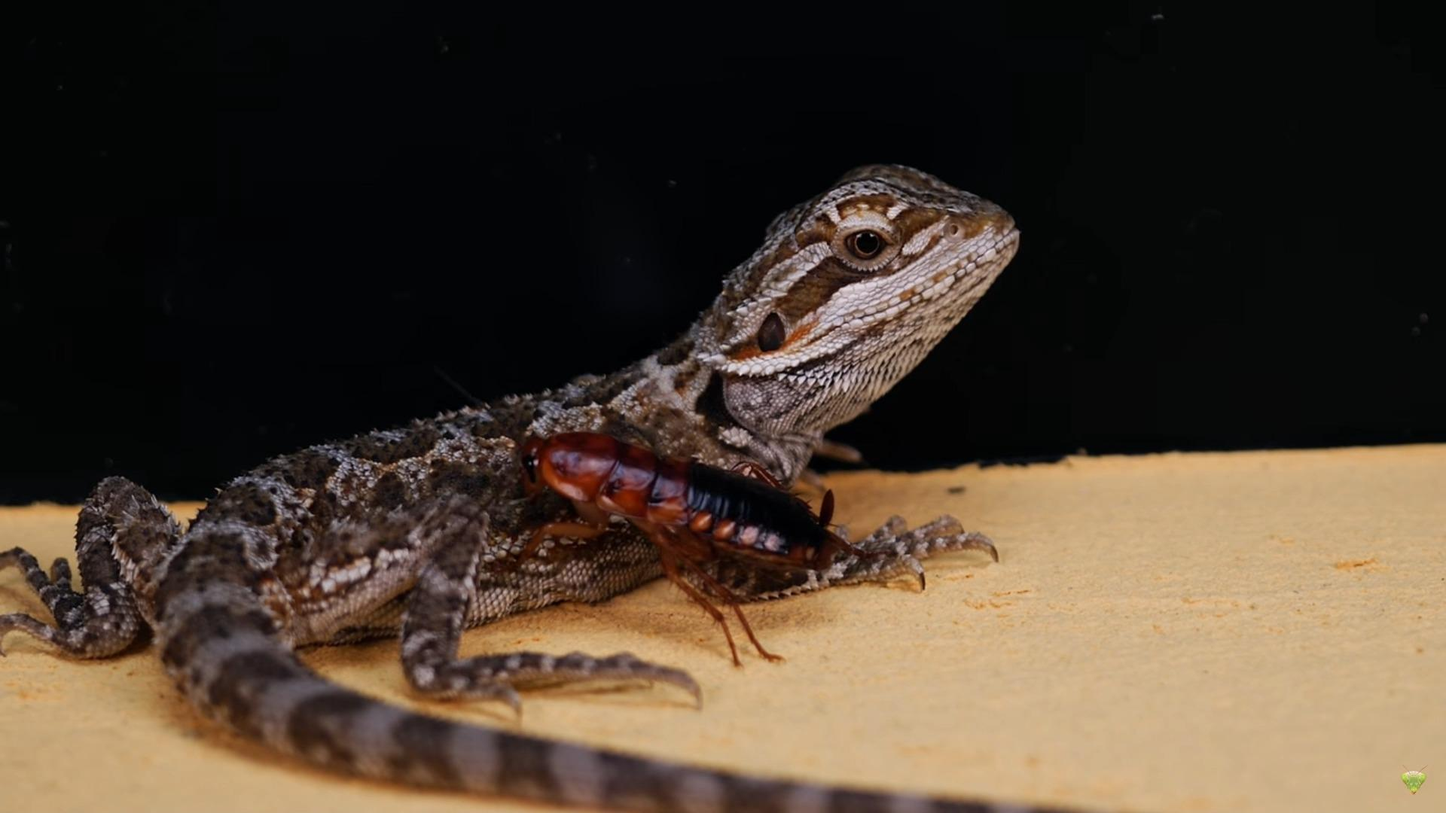cockroach: (483, 402, 824, 626)
lizard: (79, 156, 1025, 805)
